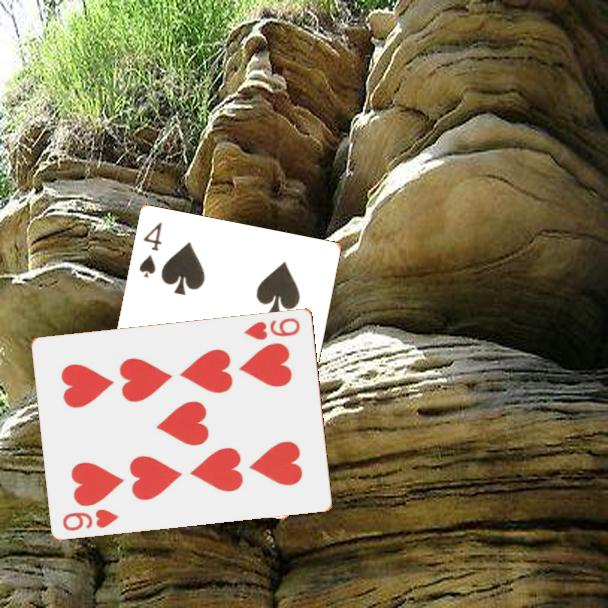h09: (59, 505, 122, 534), (241, 314, 303, 342)
s04: (136, 219, 165, 281)
